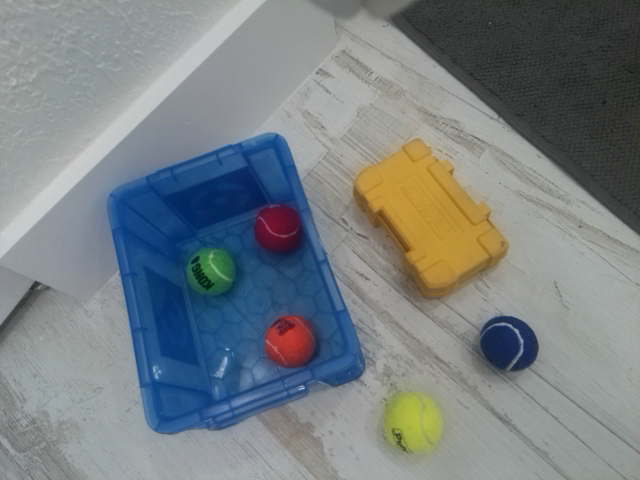blue-ball: (480, 315, 540, 373)
green-ball: (185, 246, 237, 297)
orange-ball: (263, 313, 317, 369)
red-ball: (253, 202, 305, 254)
yellow-ball: (382, 390, 443, 455)
